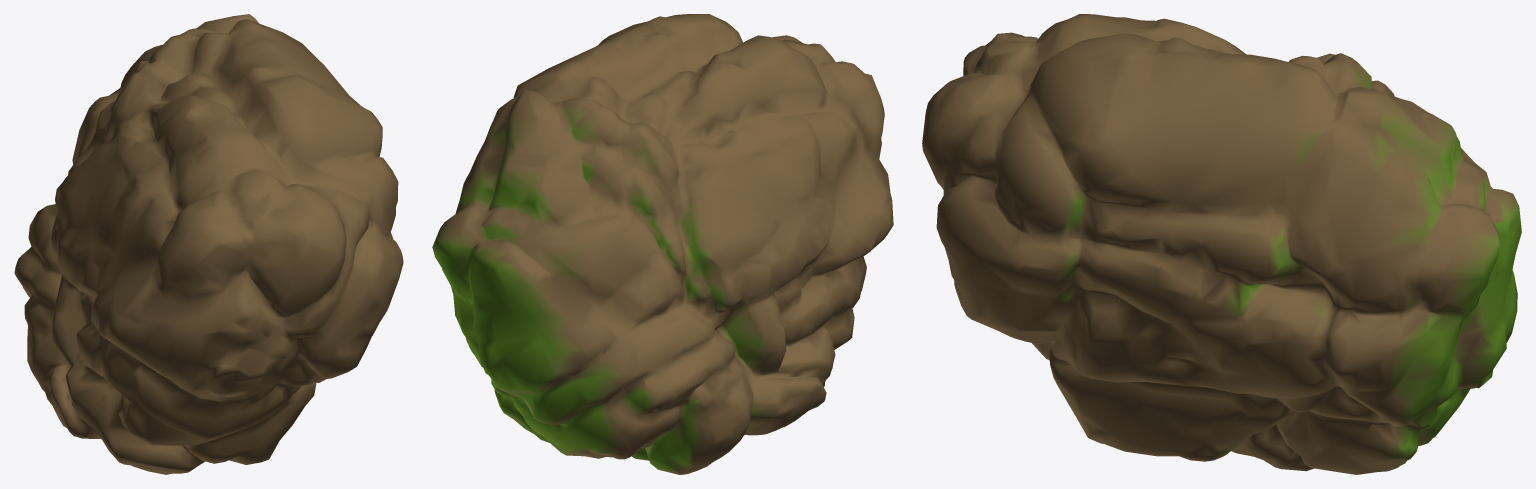
Rendered from cell_x3_z-3_render.gltf.
The picture shows the model from 3 angles, left to right: view 1: azimuth 30°, elevation 25°; view 2: azimuth 150°, elevation 25°; view 3: azimuth 270°, elevation 25°; orthographic projection. The views are drawn at different scales.
Parts seen in each view (by area): view 1: SM_ENV_cliff_castle_01_LOD0.013; view 2: SM_ENV_cliff_castle_01_LOD0.013; view 3: SM_ENV_cliff_castle_01_LOD0.013.
Part boxes in pixels (x1,y1,x2,y2): SM_ENV_cliff_castle_01_LOD0.013: [14, 14, 403, 474]; SM_ENV_cliff_castle_01_LOD0.013: [432, 14, 893, 474]; SM_ENV_cliff_castle_01_LOD0.013: [922, 14, 1521, 474].
Size of the model in its own units: 33.2 by 38.9 by 46.19.
